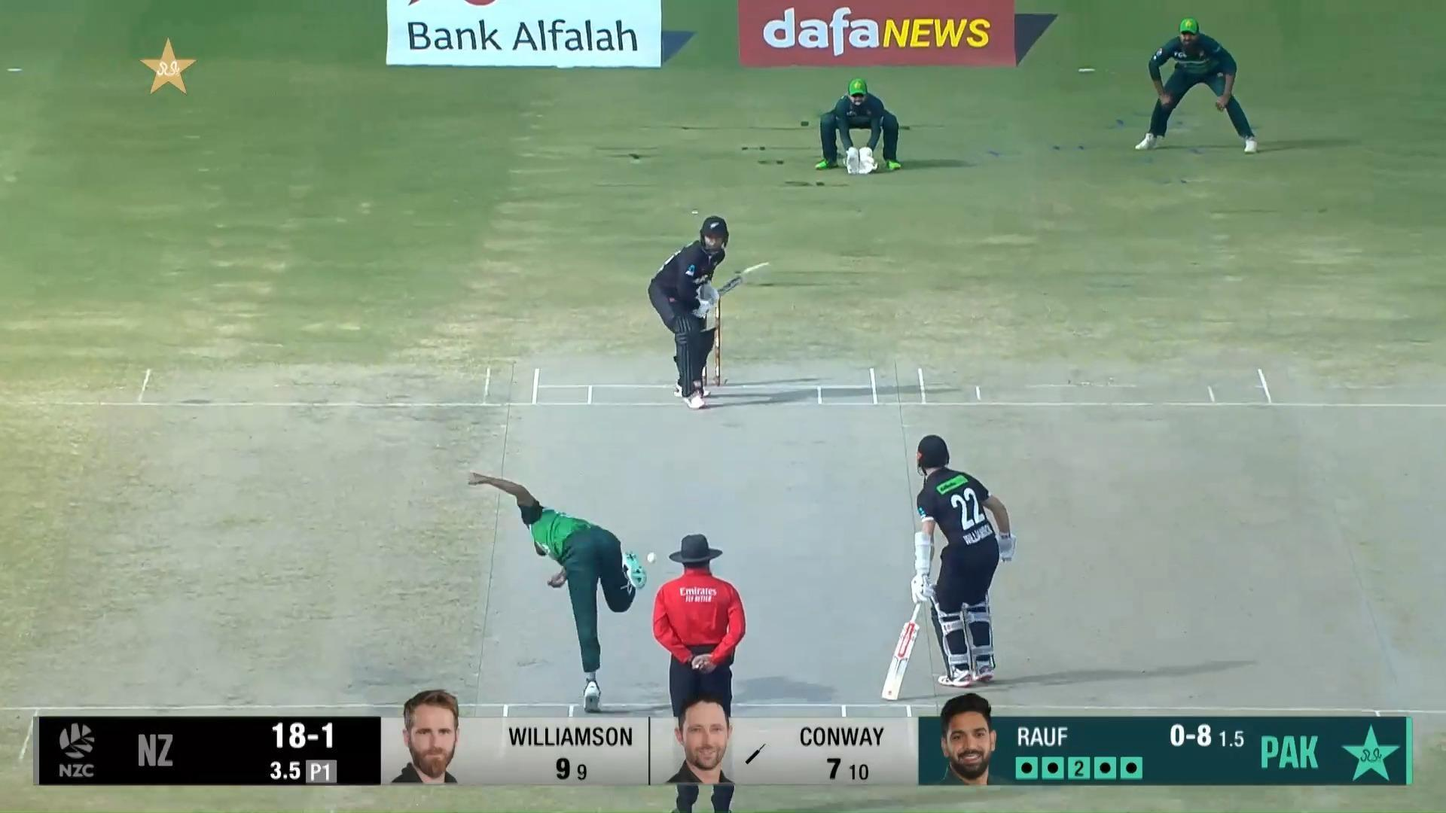BM 1: (648, 216, 771, 410)
BO: (466, 471, 647, 713)
